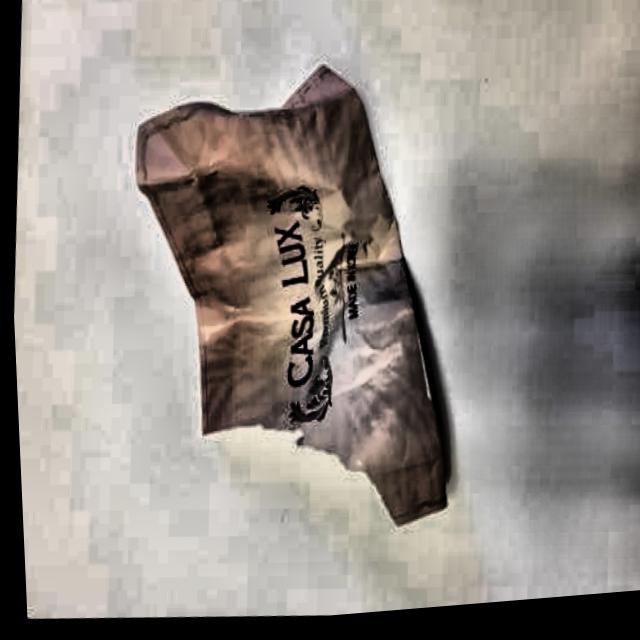Paper: (89, 9, 492, 570)
